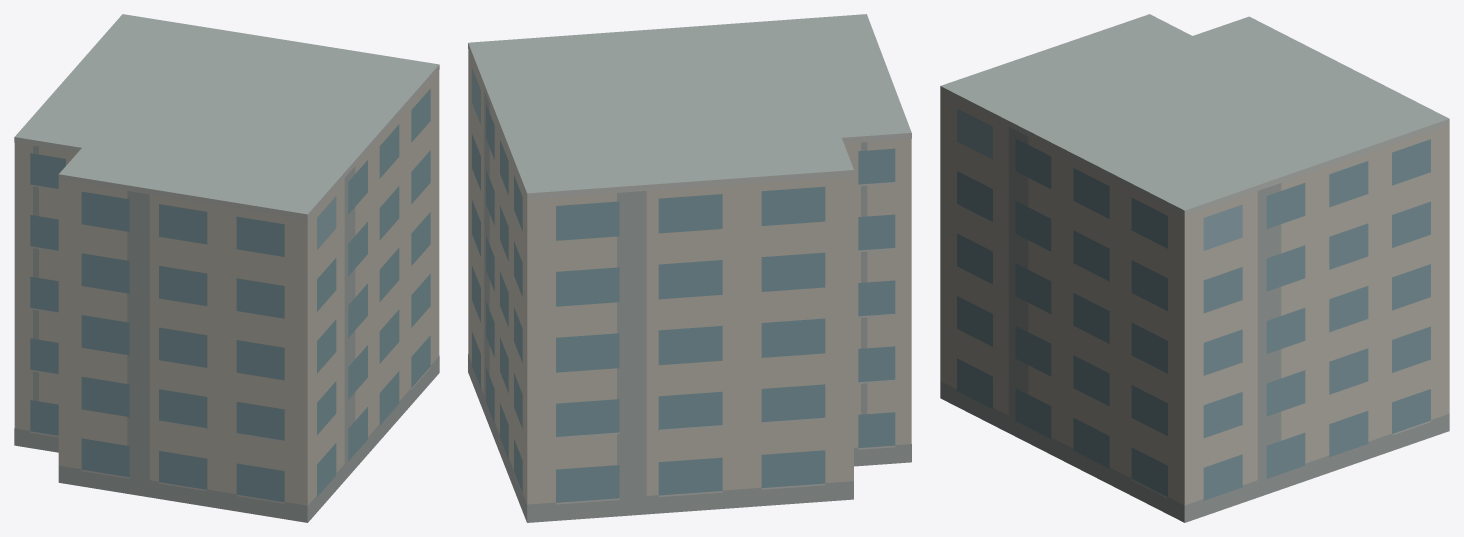
The model's file is survey-upis-32827149.glb.
3 views of the same model, side by side, from view 1: azimuth 30°, elevation 25°; view 2: azimuth 150°, elevation 25°; view 3: azimuth 270°, elevation 25° (orthographic). The views are drawn at different scales.
Parts seen in each view (by area): view 1: survey-upis-32827149.tmp; view 2: survey-upis-32827149.tmp; view 3: survey-upis-32827149.tmp.
Boxes of the visible parts, box(x1,y1,x2,y2) form: survey-upis-32827149.tmp: box(14, 14, 439, 522); survey-upis-32827149.tmp: box(468, 14, 911, 522); survey-upis-32827149.tmp: box(940, 14, 1449, 522).
Bounding box in the file's own units: 18.24 × 13.5 × 19.97.
